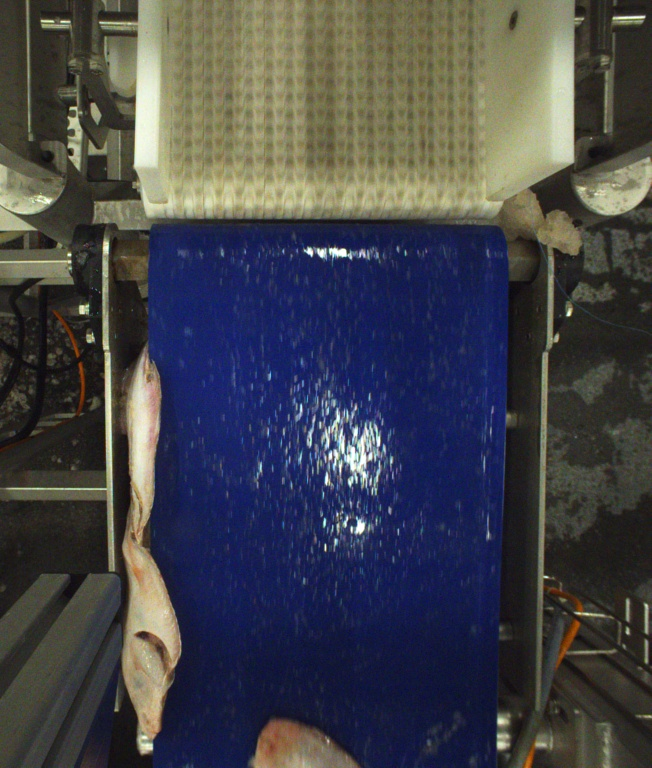SOL: (244, 712, 373, 768)
